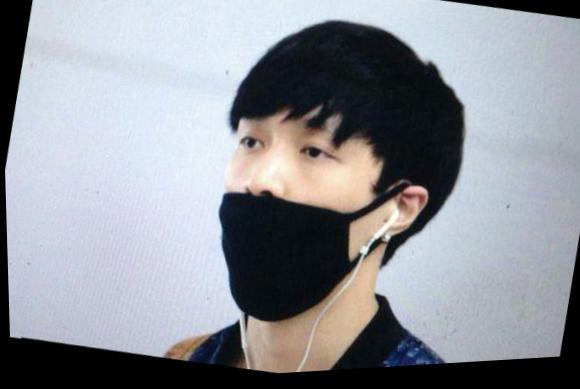WRONG: (191, 95, 423, 339)
